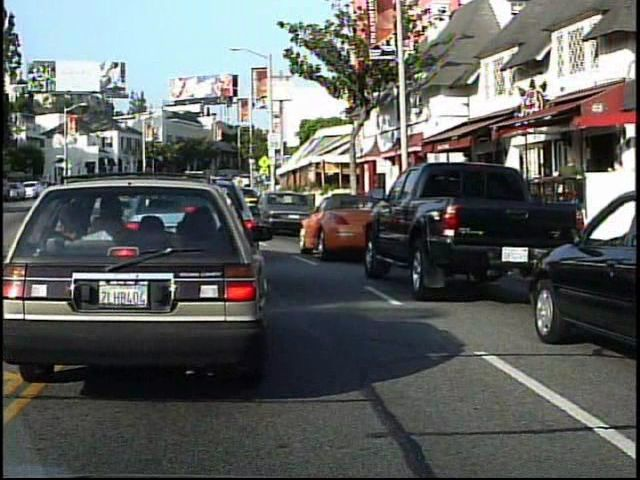person: (556, 151, 587, 225)
